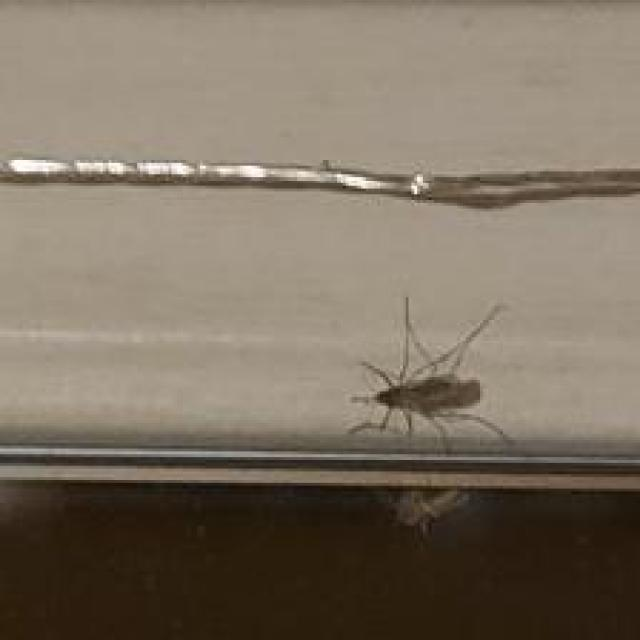Culex: (344, 294, 513, 454)
